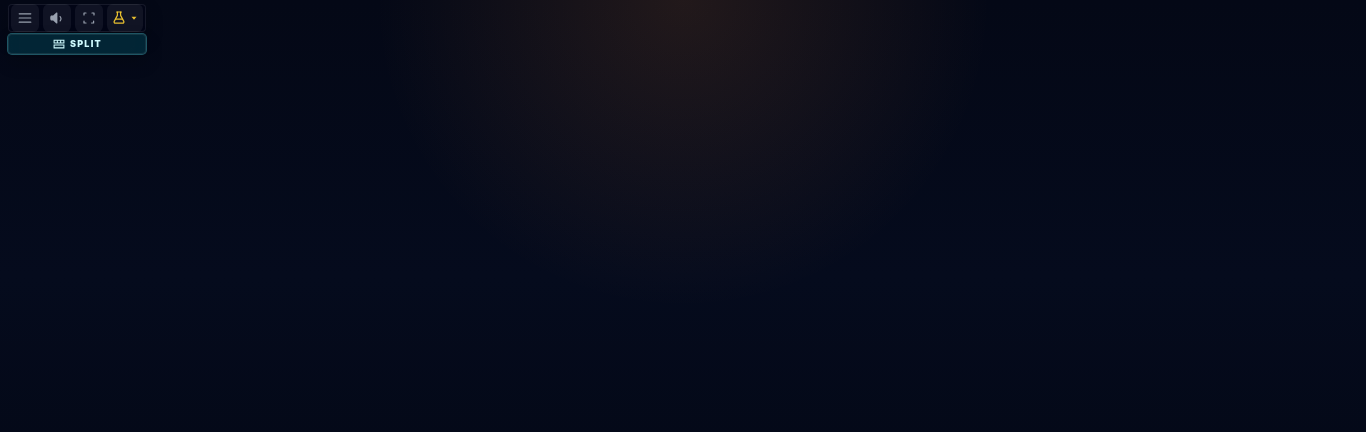
it: GameMenu › opens sandbox tools from the sandbox dropdown
The width and height of the screenshot is (1366, 432).
Click the button named "Sandbox Tools".
click(125, 18)  # box [107, 4, 143, 32]
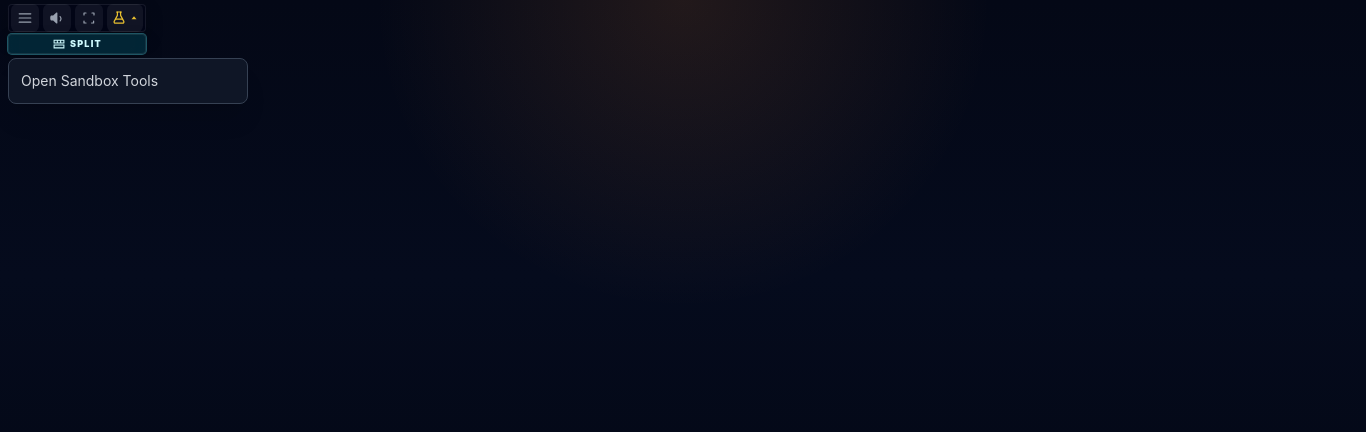
Click the menu item "Open Sandbox Tools".
click(128, 81)  # box [9, 63, 247, 99]
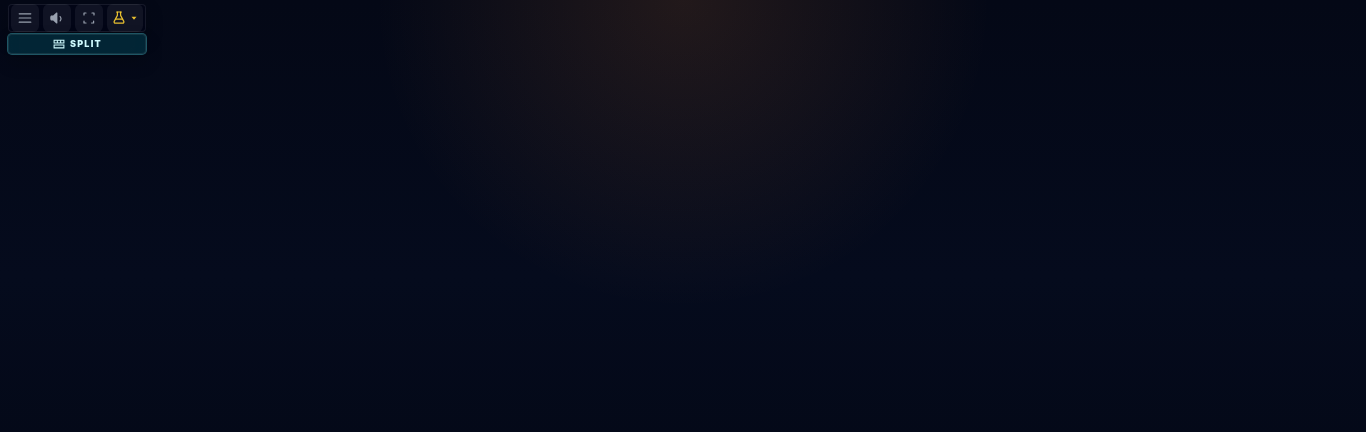
Expected: the menu item "Open Sandbox Tools" is gone
